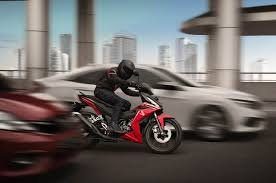mobil: (32, 61, 261, 143)
motor: (74, 93, 177, 150)
